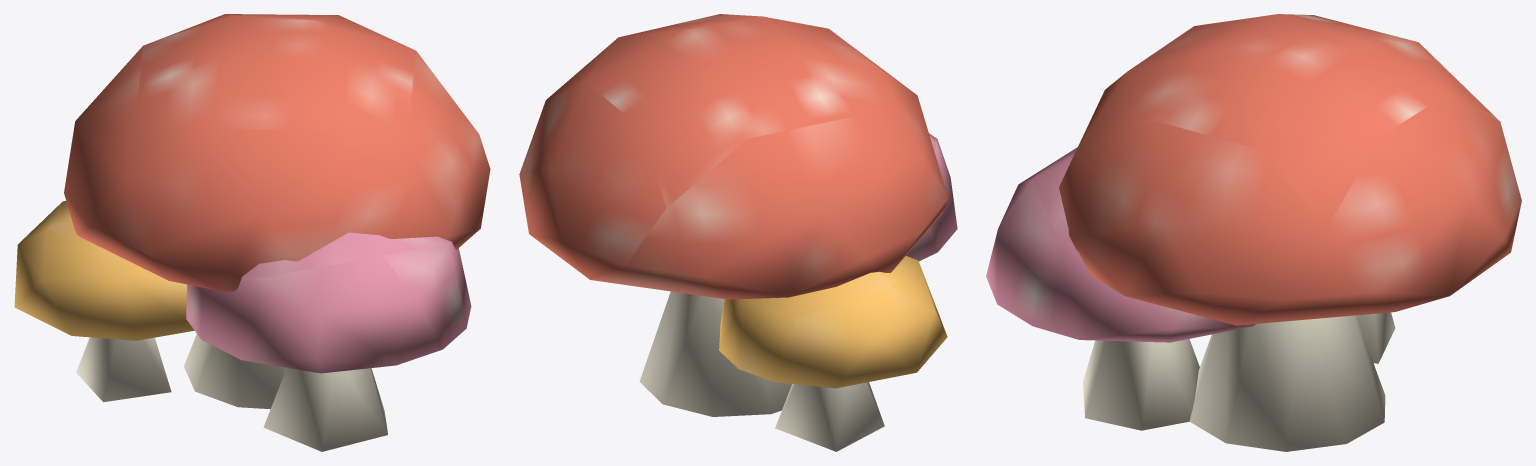
The model's file is mushroom_lod1.gltf.
The picture shows the model from 3 angles, left to right: view 1: azimuth 30°, elevation 25°; view 2: azimuth 150°, elevation 25°; view 3: azimuth 270°, elevation 25°; orthographic projection. The views are drawn at different scales.
Parts seen in each view (by area): view 1: mushroom_LOD1; view 2: mushroom_LOD1; view 3: mushroom_LOD1.
Boxes of the visible parts, bbox=[...] form: mushroom_LOD1: bbox=[14, 14, 490, 451]; mushroom_LOD1: bbox=[519, 14, 957, 451]; mushroom_LOD1: bbox=[986, 14, 1521, 451].
Bounding box in the file's own units: 0.6713 × 0.5337 × 0.699.
Materials: 1 (1 with a texture image).
